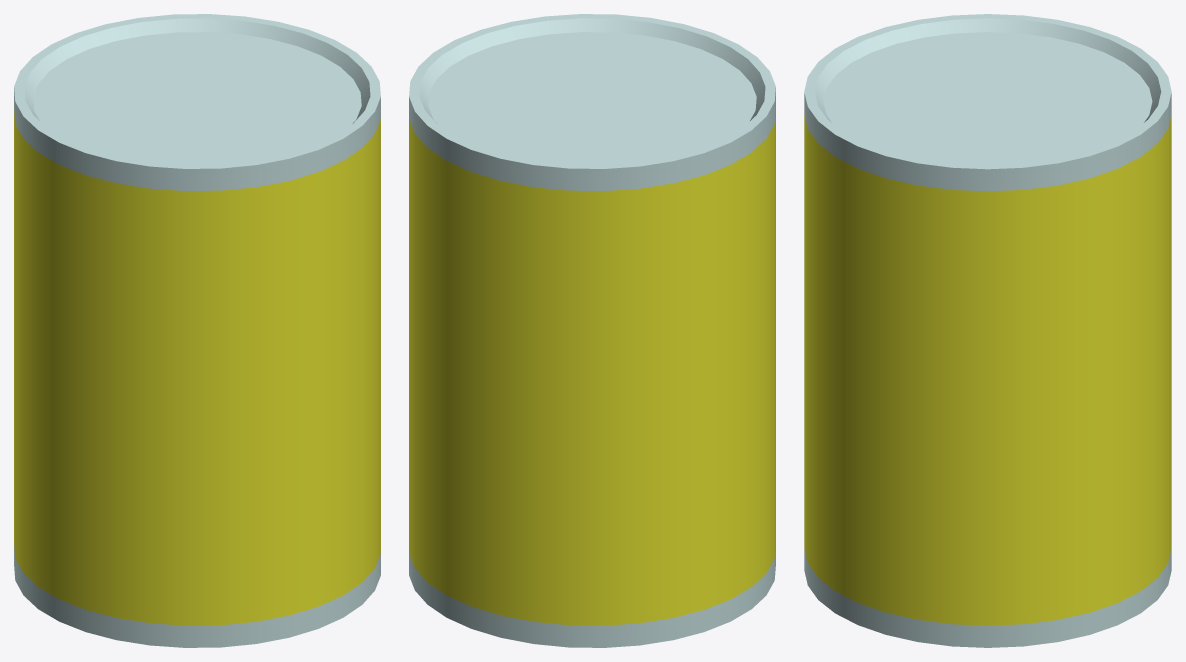
The model's file is can_corn.glb.
3 renders of one model, left to right at view 1: azimuth 30°, elevation 25°; view 2: azimuth 150°, elevation 25°; view 3: azimuth 270°, elevation 25°, orthographic.
Parts seen in each view (by area): view 1: can_corn; view 2: can_corn; view 3: can_corn.
Boxes of the visible parts, x1=… form: can_corn: x1=14, y1=14, x2=380, y2=647; can_corn: x1=409, y1=14, x2=775, y2=647; can_corn: x1=804, y1=14, x2=1171, y2=647.
Bounding box in the file's own units: 0.08 × 0.115 × 0.08.
